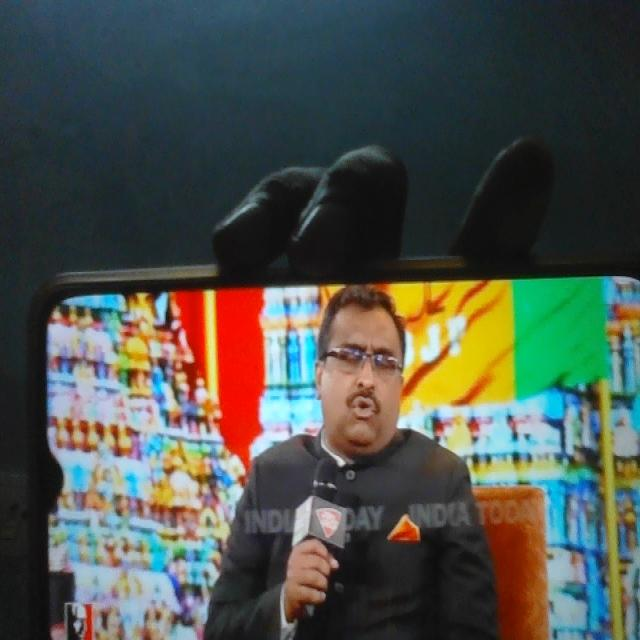fake: (308, 259, 417, 464)
